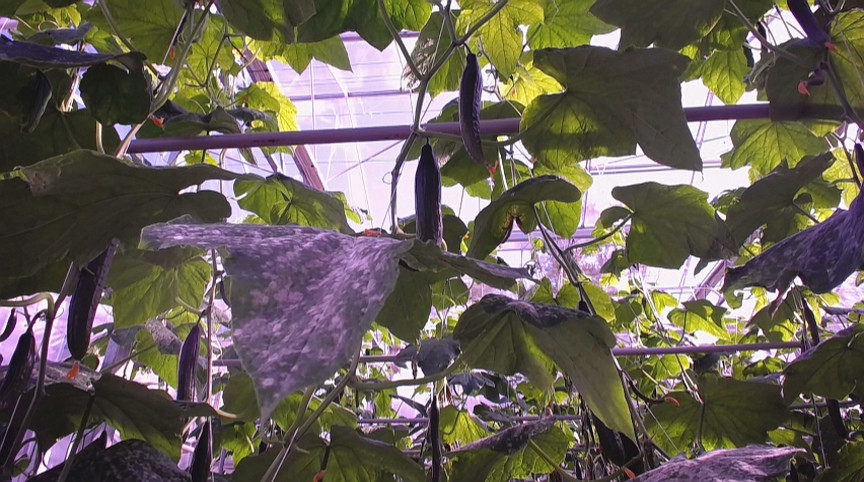cucumber: (69, 244, 116, 359), (459, 51, 488, 167), (416, 144, 443, 244), (1, 332, 38, 396), (178, 325, 202, 404), (592, 414, 627, 468), (189, 422, 216, 482)
